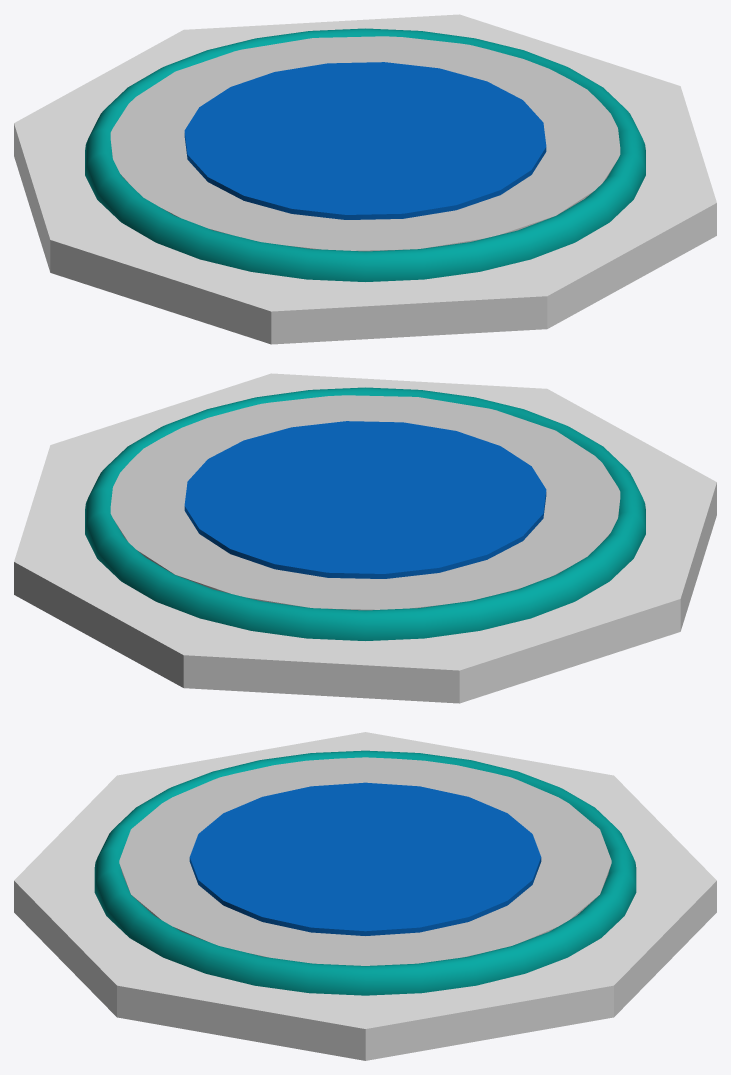
Rendered from Checkpoint.fbx.
3 renders of one model, top to bottom at view 1: azimuth 30°, elevation 25°; view 2: azimuth 150°, elevation 25°; view 3: azimuth 270°, elevation 25°, orthographic. The views are drawn at different scales.
Visible parts, largest first — view 1: pCylinder4; view 2: pCylinder4; view 3: pCylinder4.
Part boxes in pixels (x1,y1,x2,y2): pCylinder4: (14,14,716,344); pCylinder4: (14,373,716,703); pCylinder4: (14,732,716,1060).
Bounding box in the file's own units: 20 × 1.74 × 20.
